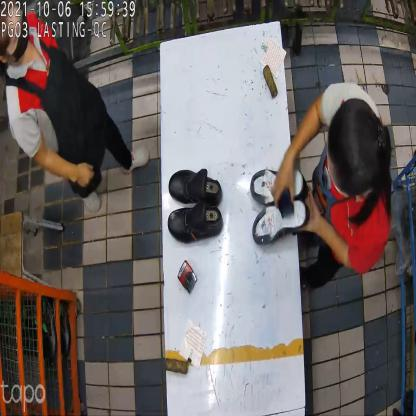shoes: (246, 166, 310, 244), (167, 170, 224, 239)
stamp: (275, 186, 296, 221), (180, 262, 198, 292)
